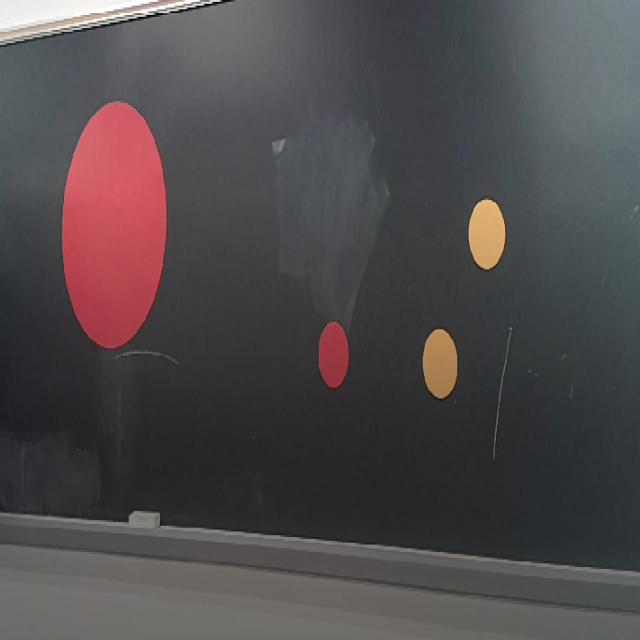Orange: (422, 328, 458, 401), (468, 198, 505, 269)
Red: (62, 100, 167, 350), (318, 322, 349, 389)
